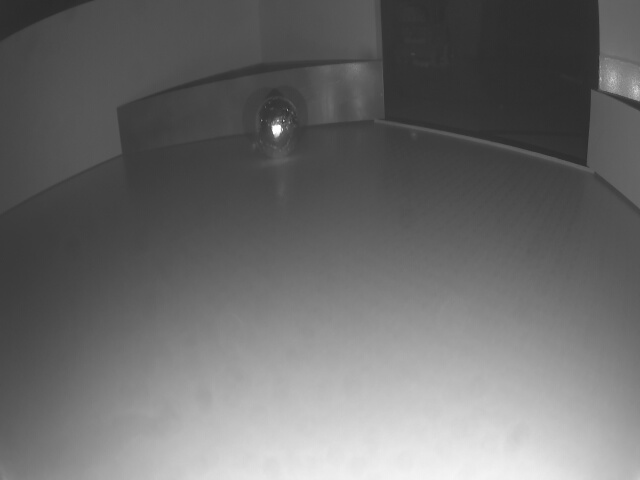Green: (117, 59, 382, 157)
Live: (253, 93, 305, 160)
Red: (587, 88, 640, 211)
